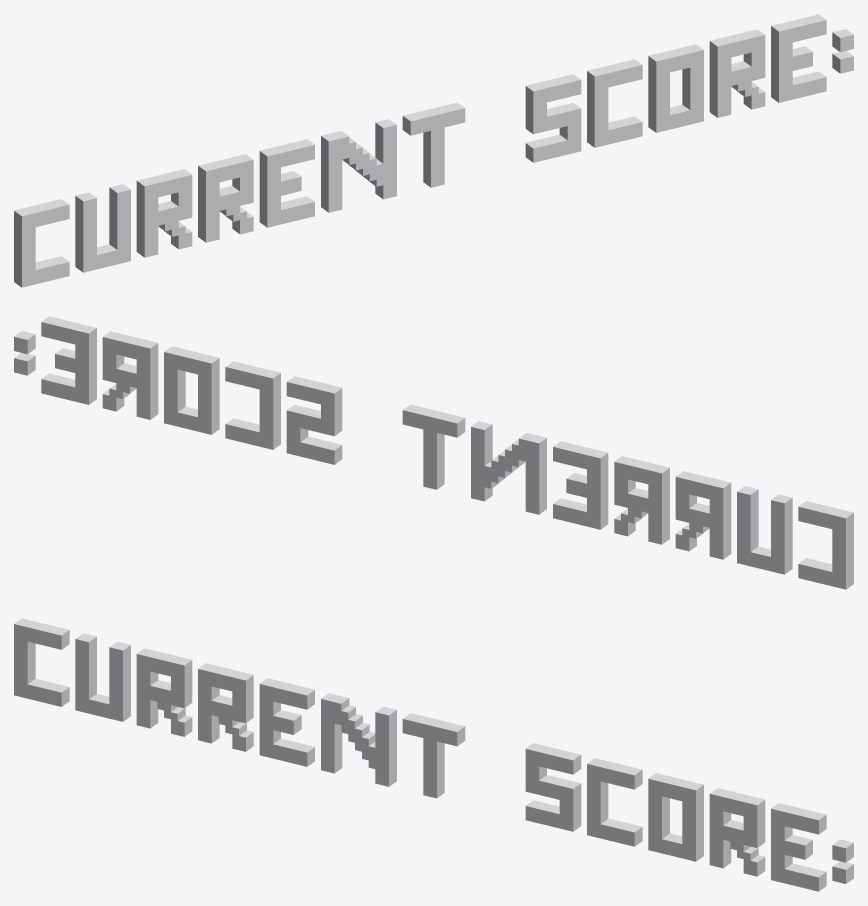
The model's file is score.obj.
The picture shows the model from 3 angles, top to bottom: view 1: azimuth 30°, elevation 25°; view 2: azimuth 150°, elevation 25°; view 3: azimuth 330°, elevation 25°; orthographic projection.
Visible parts, largest first — view 1: Matrix_18; view 2: Matrix_18; view 3: Matrix_18.
Part boxes in pixels (x1,y1,x2,y2): Matrix_18: (14, 14, 853, 287); Matrix_18: (14, 316, 853, 589); Matrix_18: (14, 618, 853, 891).
Bounding box in the file's own units: 122 × 10 × 2.
Materials: 1 (1 with a texture image).
